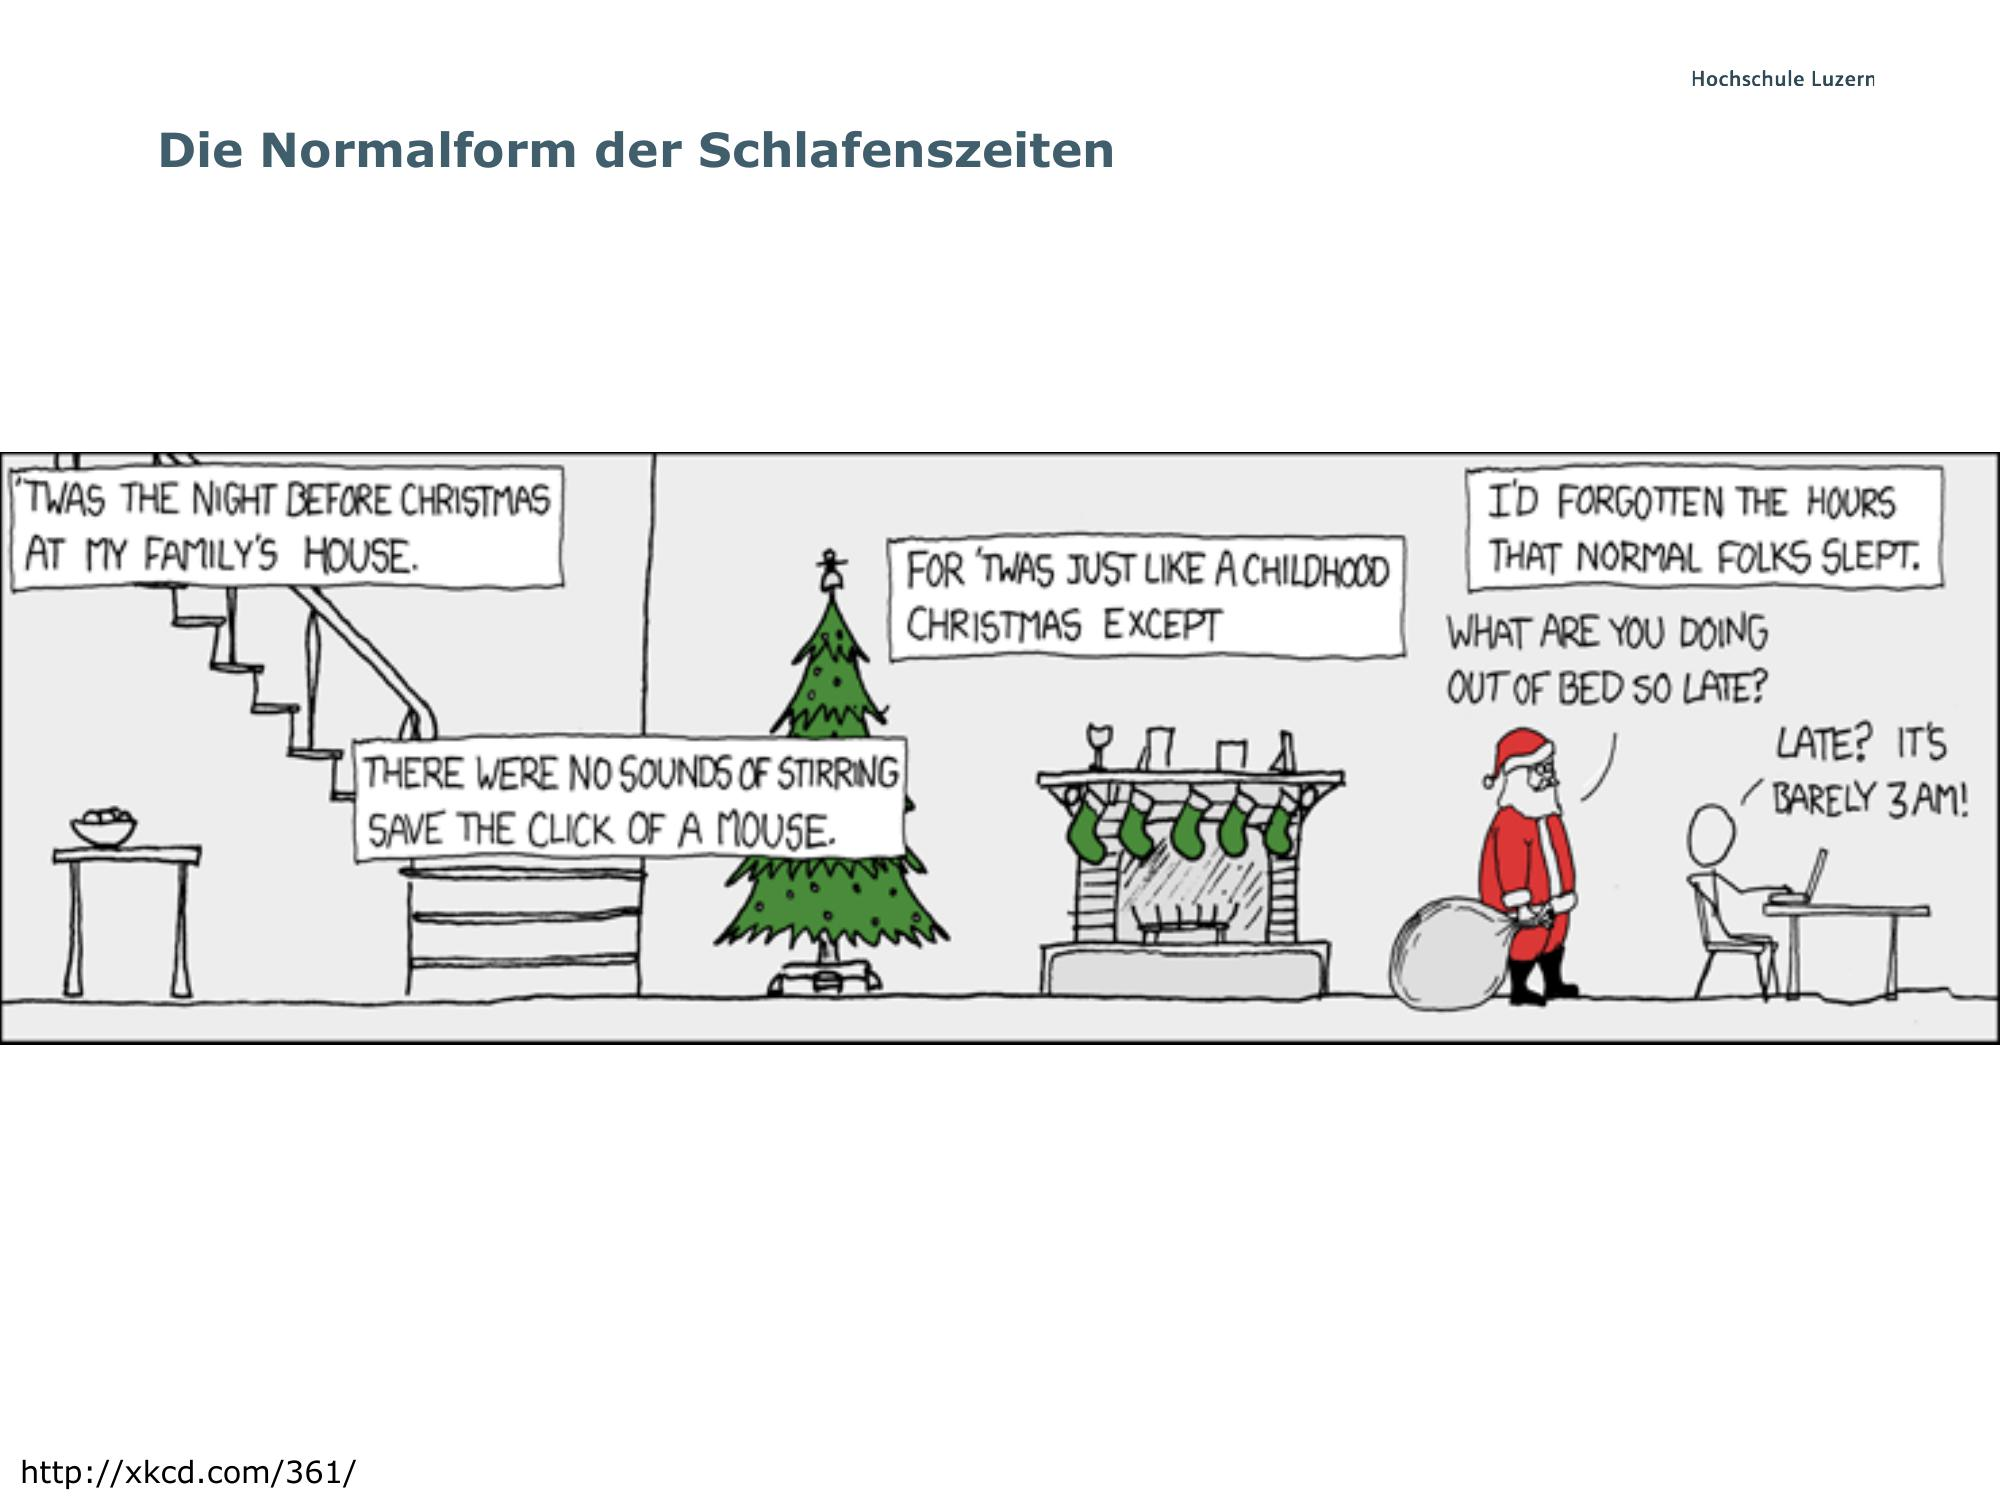Title: (139, 106, 1135, 187)
